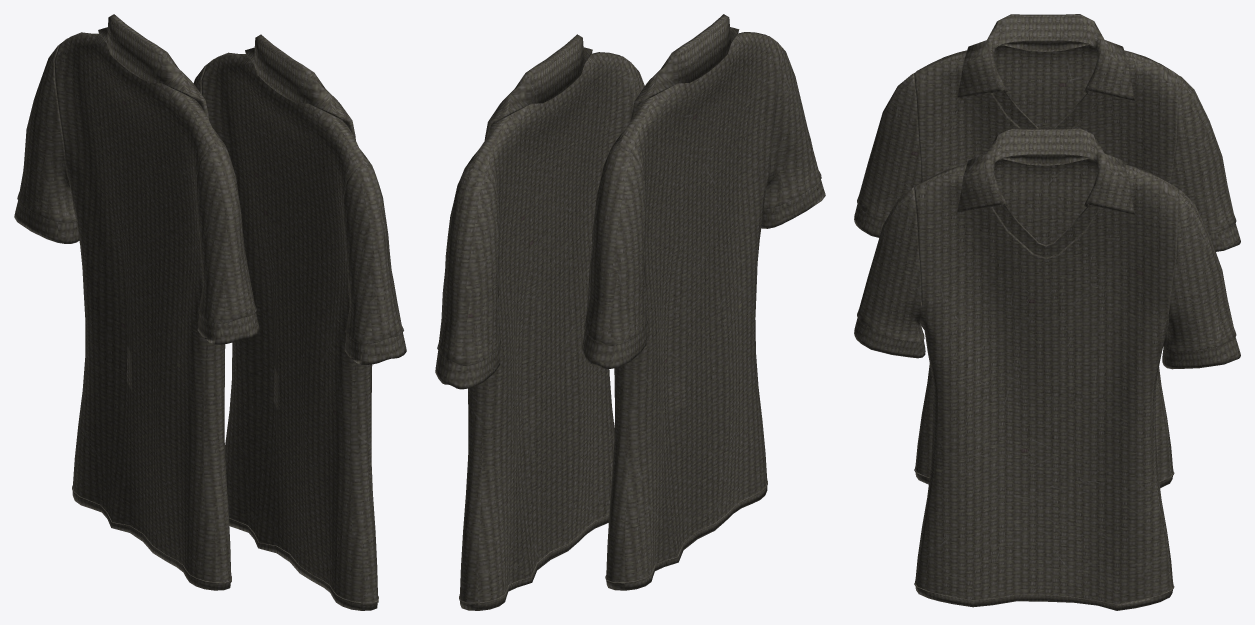
File: yifu12txu_03.fbx
3 renders of one model, left to right at view 1: azimuth 30°, elevation 25°; view 2: azimuth 150°, elevation 25°; view 3: azimuth 270°, elevation 25°, orthographic. The views are drawn at different scales.
Visible parts, largest first — view 1: yifu12txu_03; view 2: yifu12txu_03; view 3: yifu12txu_03.
Boxes of the visible parts, x1,y1,x2,y2 form: yifu12txu_03: (14, 14, 406, 610); yifu12txu_03: (435, 14, 825, 610); yifu12txu_03: (854, 14, 1240, 610).
Size of the model in its own units: 35.34 by 89.37 by 61.24.
